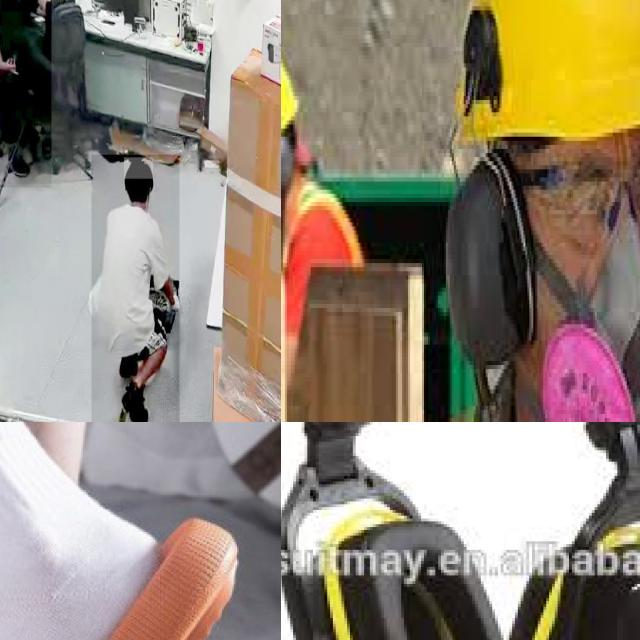Ear-protection: (281, 479, 492, 640), (440, 153, 535, 357), (478, 535, 640, 640)
Sandals: (0, 503, 271, 640)
glasses: (525, 153, 640, 242)
hand_noglove: (3, 54, 19, 76)
head_helmet: (447, 0, 640, 145)
head_nohelmet: (124, 158, 154, 180)
person: (91, 154, 180, 422), (0, 0, 52, 188)
shoes: (118, 373, 152, 422)
